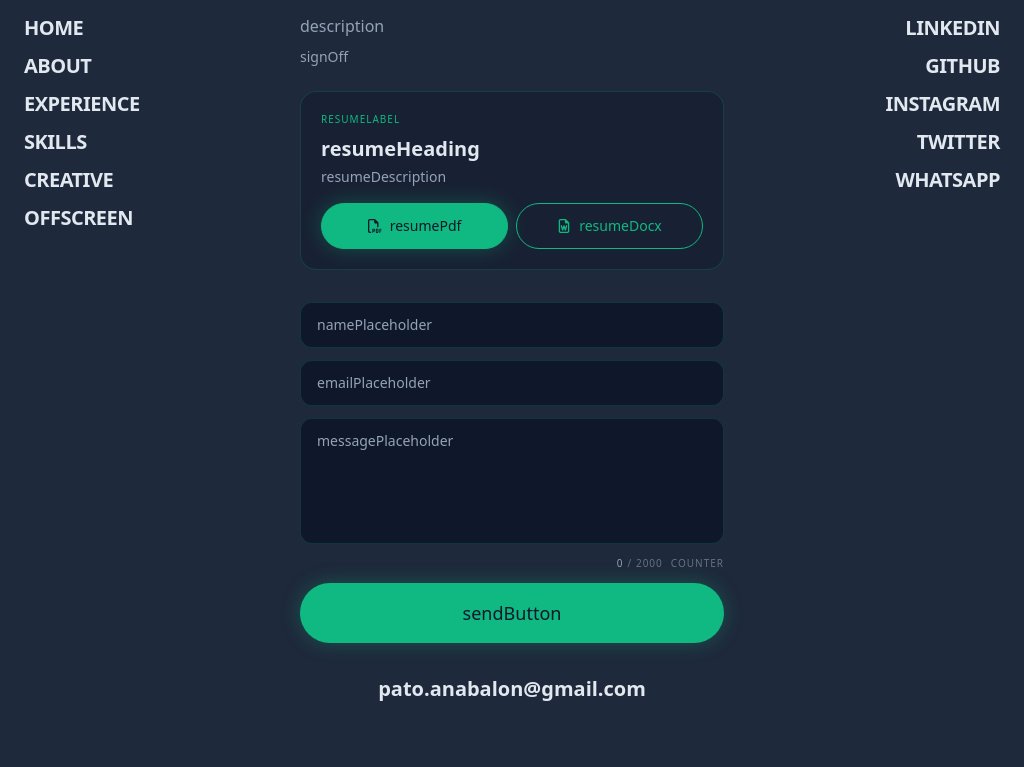
Test: ContactSection › should show an inline error when the email fails validation on blur
(page scrolled)
In the field with test id "contact-input-email": (512, 383) [300,360,724,406], type "invalid"
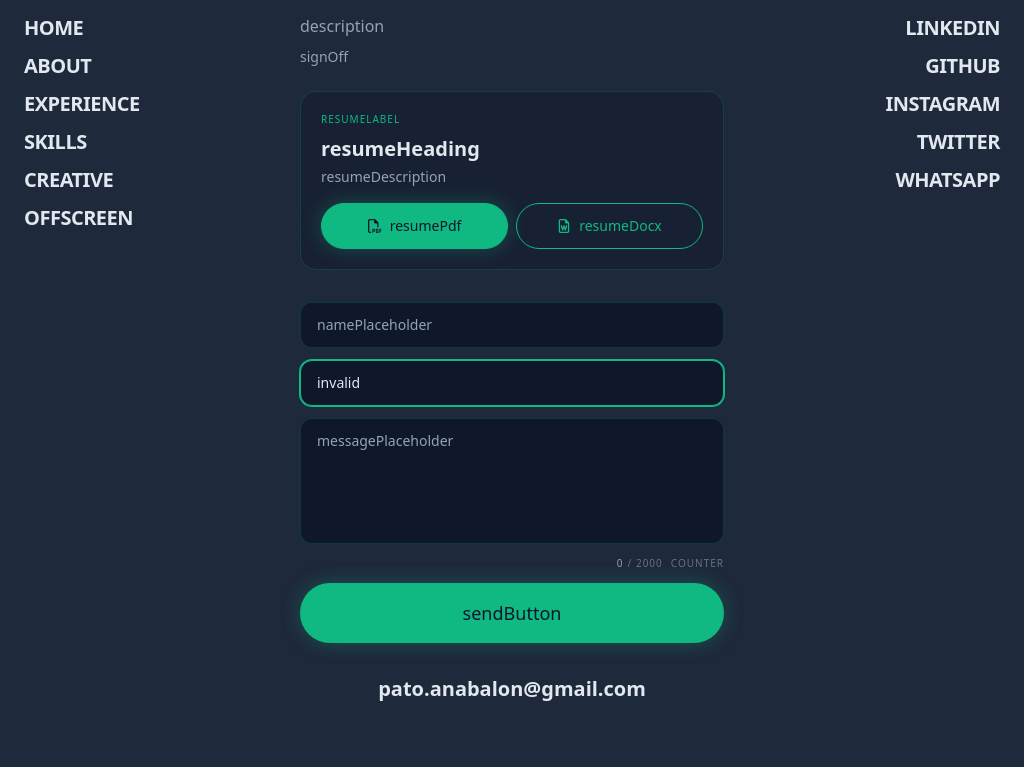
Press Tab
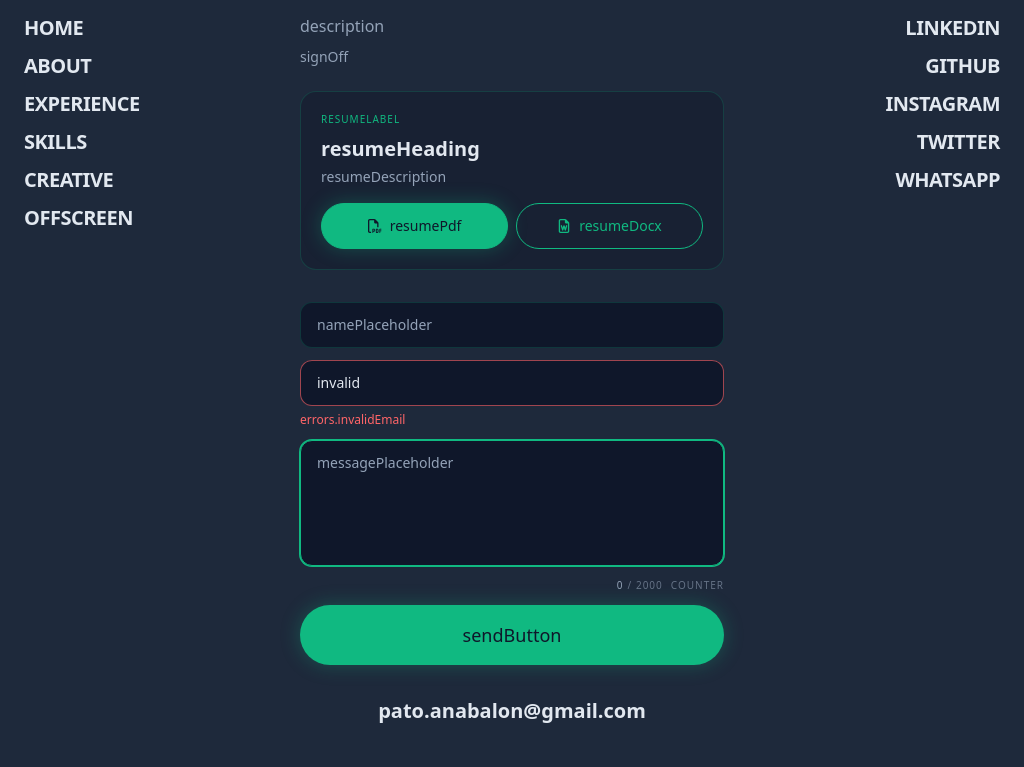
Result: the text "errors.invalidEmail" is shown at [300,411,405,428]
